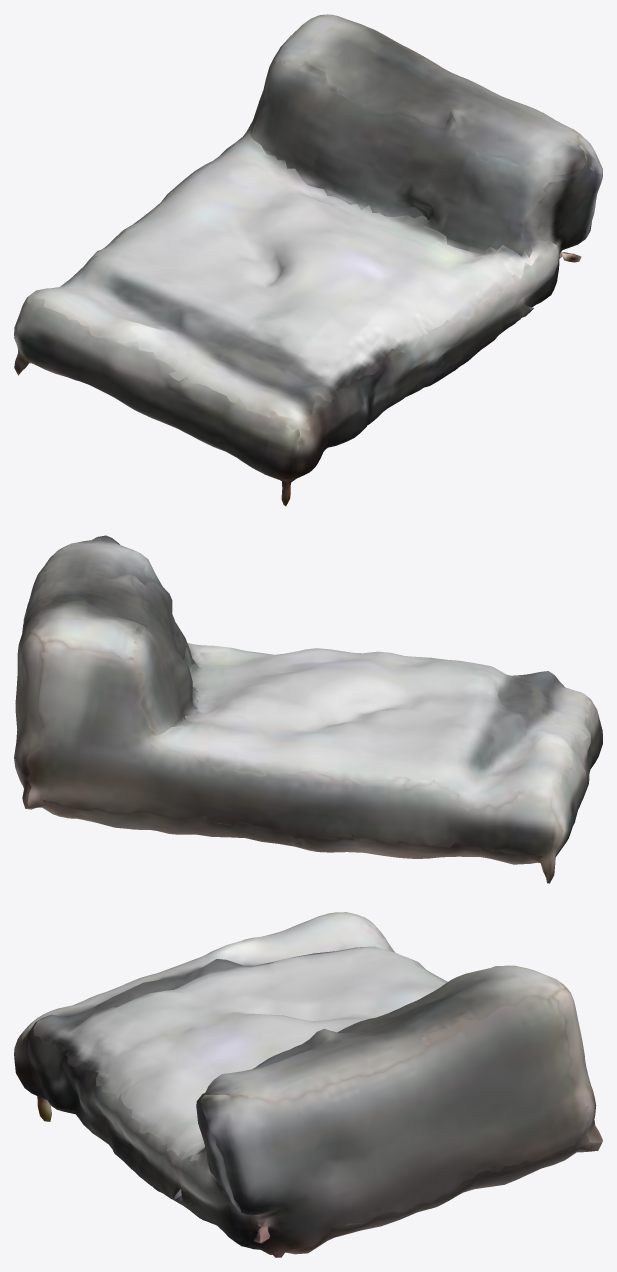
The model's file is 26_bed.glb.
3 renders of one model, top to bottom at view 1: azimuth 30°, elevation 25°; view 2: azimuth 150°, elevation 25°; view 3: azimuth 270°, elevation 25°, orthographic. The views are drawn at different scales.
Parts seen in each view (by area): view 1: 26_bed; view 2: 26_bed; view 3: 26_bed.
Boxes of the visible parts, left/top/right/bottom form: 26_bed: left=14, top=14, right=602, bottom=506; 26_bed: left=14, top=535, right=602, bottom=883; 26_bed: left=14, top=912, right=602, bottom=1257.
Size of the model in its own units: 3.06 by 1.43 by 2.67.
1 material, 1 textured.
